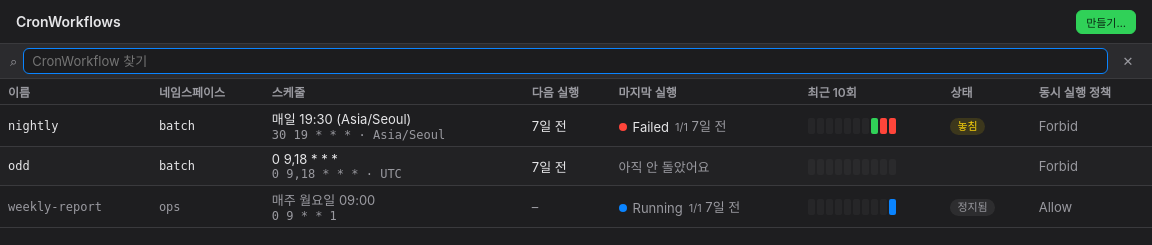
Test: CronList › 검색은 퍼지로 걸러 목록을 줄이고, 맞는 게 없으면 안내한다
expect the row "nightly" is shown: met, box [0,104,1151,146]
Type "wkrp" into the field named "목록에서 찾기".
click(566, 61); type("wkrp")  # box [23,48,1108,74]
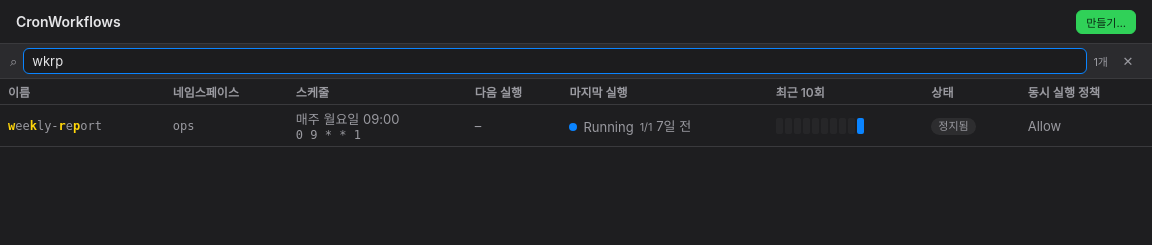
Replace the text in the field named "목록에서 찾기" with "zzzzqq" at x=555, y=61, box [23,48,1087,74]
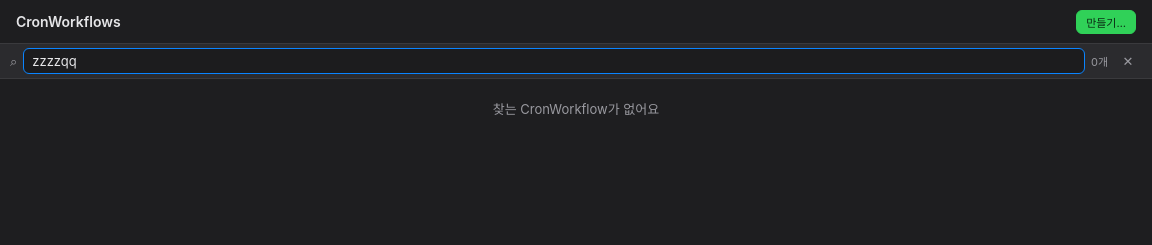
expect the text "찾는 CronWorkflow가 없어요" is shown: met, box [493,101,659,117]
Press Escape in the field named "목록에서 찾기", box [23,48,1085,74]
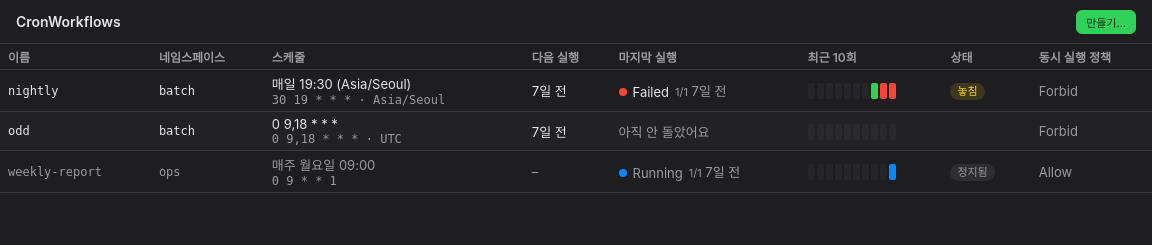
expect the row "nightly" is shown: met, box [0,70,1151,112]
